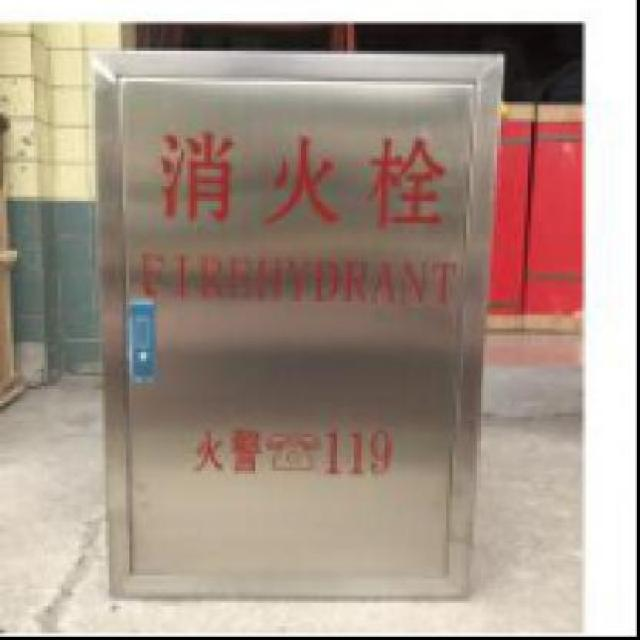firehydrant: (88, 45, 508, 607)
